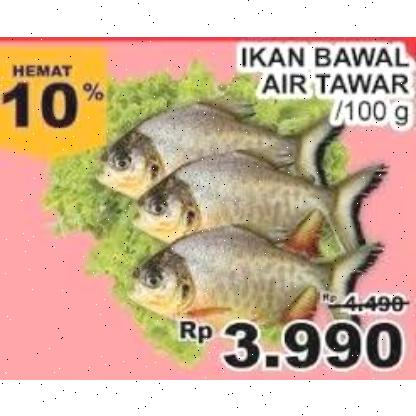ikan-pacu: (128, 230, 388, 324), (99, 104, 343, 198), (136, 157, 384, 245)
